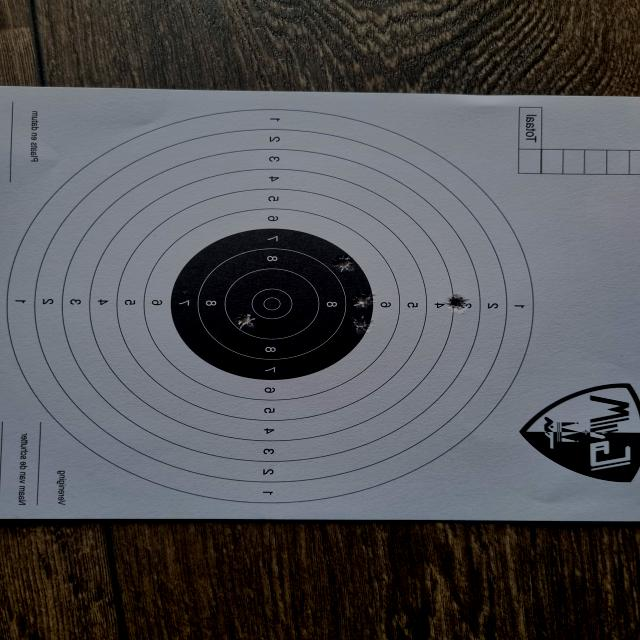4: (446, 294, 470, 311)
7: (351, 290, 374, 309), (332, 254, 356, 272), (350, 315, 372, 334)
9: (234, 311, 257, 331)
Target: (4, 108, 534, 506)
black_contour: (171, 228, 374, 380)
